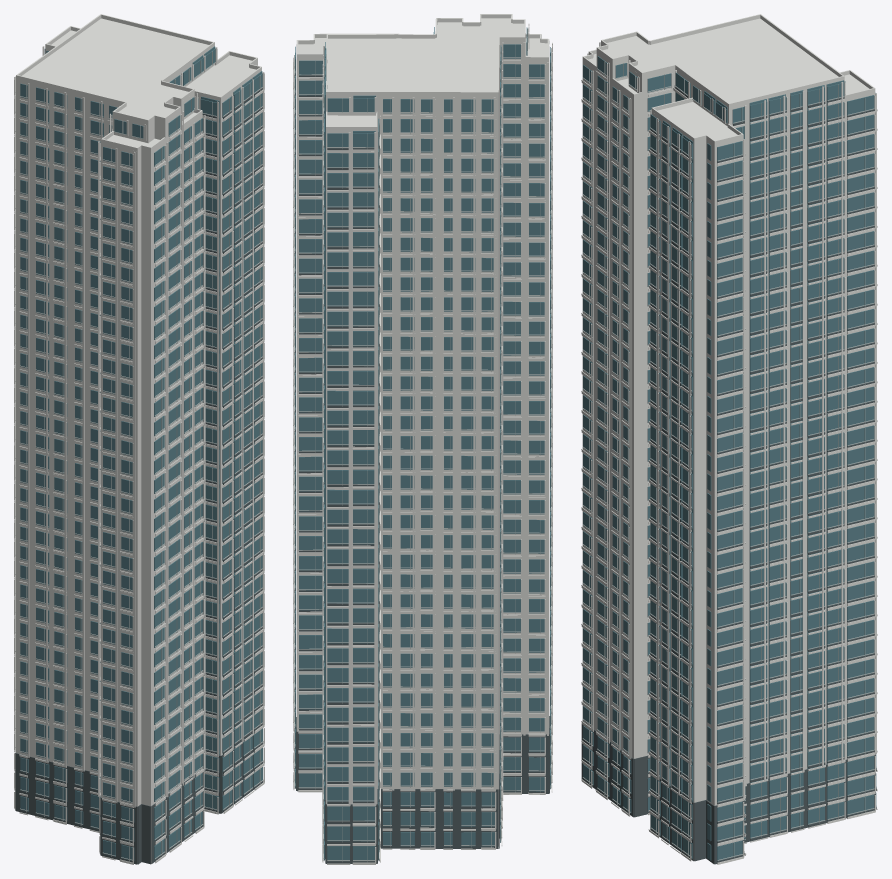
Rendered from bespoke-acro-riverpark-114.glb.
The picture shows the model from 3 angles, left to right: view 1: azimuth 30°, elevation 25°; view 2: azimuth 150°, elevation 25°; view 3: azimuth 270°, elevation 25°; orthographic projection. The views are drawn at different scales.
Parts seen in each view (by area): view 1: 114_R00_body, 114_R00_glass, 114_R00_frame, 114_R00_dark; view 2: 114_R00_body, 114_R00_glass, 114_R00_frame, 114_R00_dark; view 3: 114_R00_glass, 114_R00_body, 114_R00_frame, 114_R00_dark.
Boxes of the visible parts, <box> form: 114_R00_body: <box>14,14,264,864</box>; 114_R00_glass: <box>20,46,262,860</box>; 114_R00_frame: <box>15,51,263,861</box>; 114_R00_dark: <box>15,88,263,864</box>; 114_R00_body: <box>293,14,552,864</box>; 114_R00_glass: <box>295,27,550,860</box>; 114_R00_frame: <box>294,28,551,861</box>; 114_R00_dark: <box>294,73,549,863</box>; 114_R00_glass: <box>583,56,876,861</box>; 114_R00_body: <box>581,14,877,864</box>; 114_R00_frame: <box>582,61,876,860</box>; 114_R00_dark: <box>581,86,876,864</box>.
Size of the model in its own units: 41.7 by 132 by 47.8.
